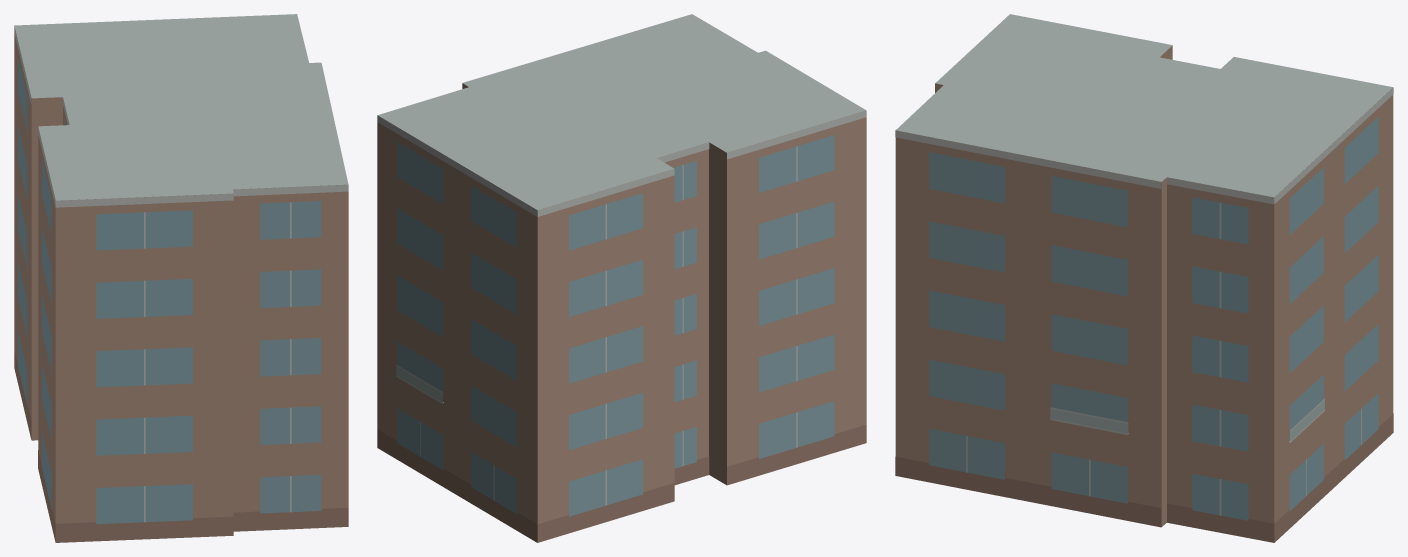
Rendered from survey-upis-33010874.glb.
3 views of the same model, side by side, from view 1: azimuth 30°, elevation 25°; view 2: azimuth 150°, elevation 25°; view 3: azimuth 270°, elevation 25° (orthographic). The views are drawn at different scales.
Parts seen in each view (by area): view 1: survey-upis-33010874.tmp; view 2: survey-upis-33010874.tmp; view 3: survey-upis-33010874.tmp.
Boxes of the visible parts, x1,y1,x2,y2 form: survey-upis-33010874.tmp: [14, 14, 348, 542]; survey-upis-33010874.tmp: [377, 14, 866, 542]; survey-upis-33010874.tmp: [895, 14, 1393, 542].
Size of the model in its own units: 13.65 by 11.98 by 15.66.
